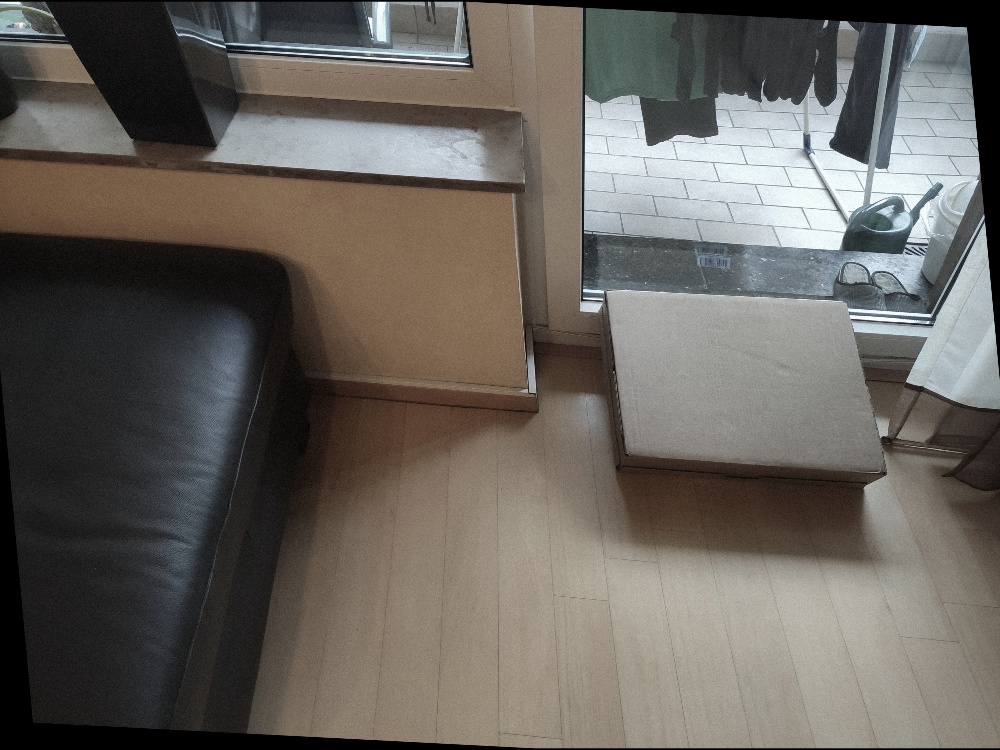good-parcel: (572, 282, 904, 507)
